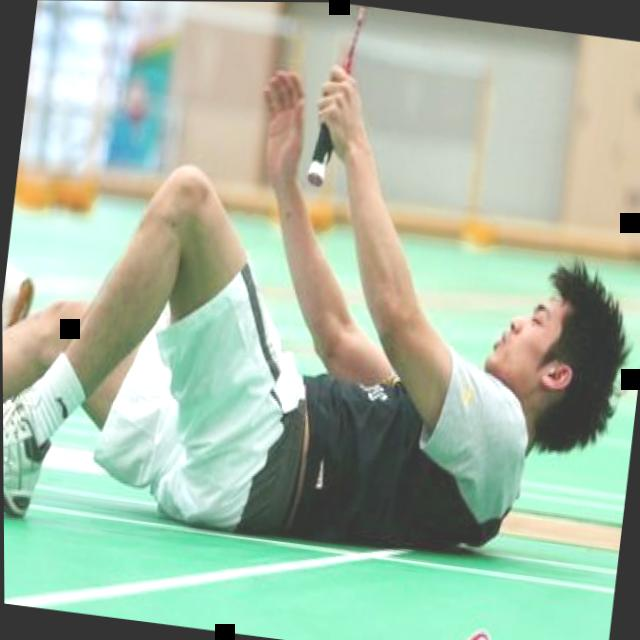Fall-Detected: (0, 1, 640, 584)
